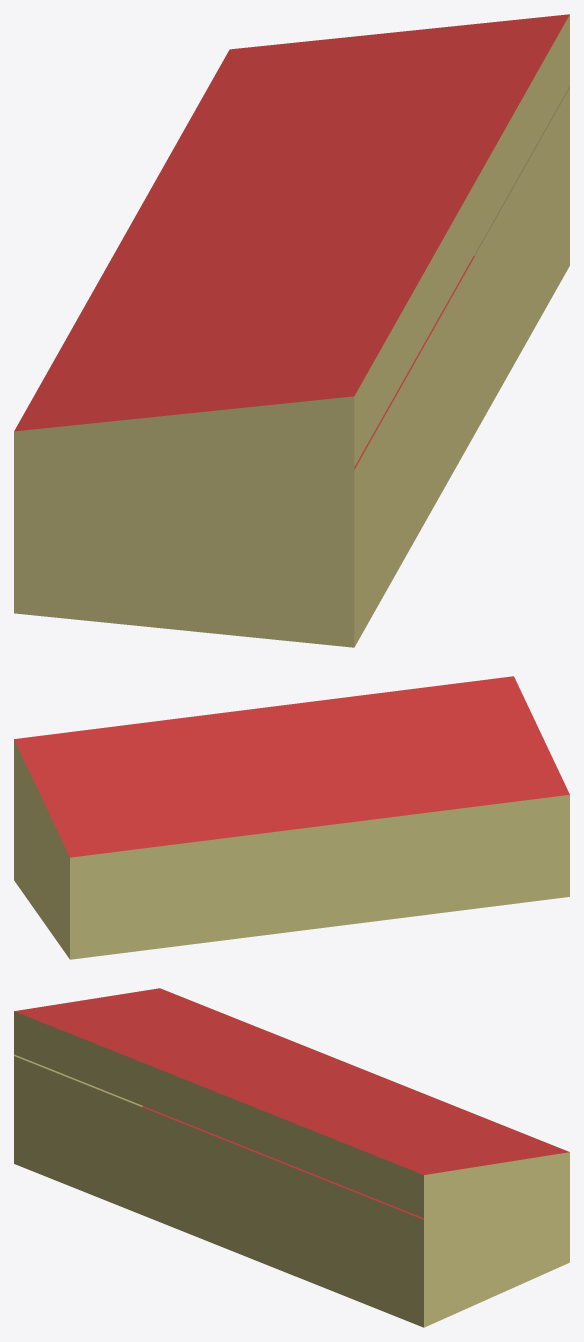
The picture shows the model from 3 angles, top to bottom: view 1: azimuth 30°, elevation 25°; view 2: azimuth 150°, elevation 25°; view 3: azimuth 270°, elevation 25°; orthographic projection. The views are drawn at different scales.
Bounding box in the file's own units: 29.02 × 29.76 × 9.01.
